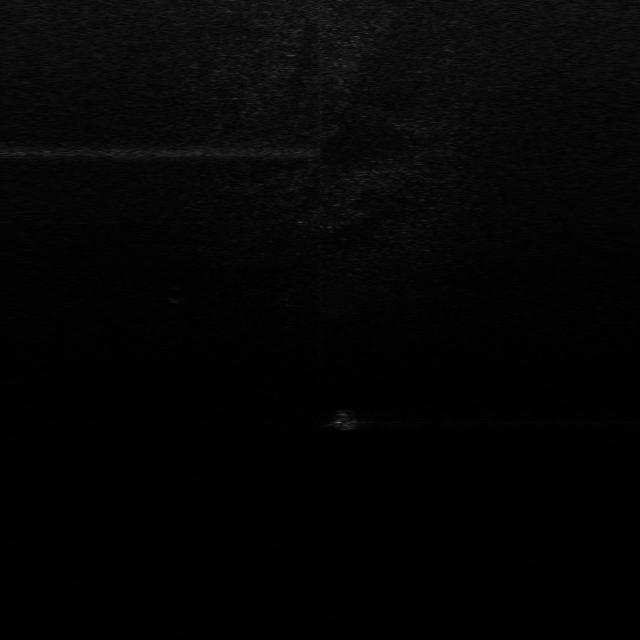ball: (323, 408, 362, 432)
circle cage: (166, 283, 190, 305)
